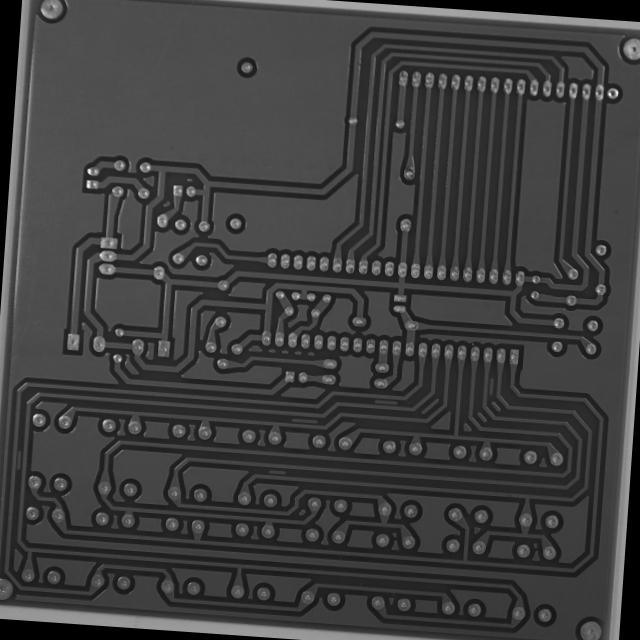spurious_copper: (10, 445, 26, 474), (288, 414, 319, 428), (372, 396, 399, 409), (264, 465, 288, 479), (484, 374, 496, 396)
